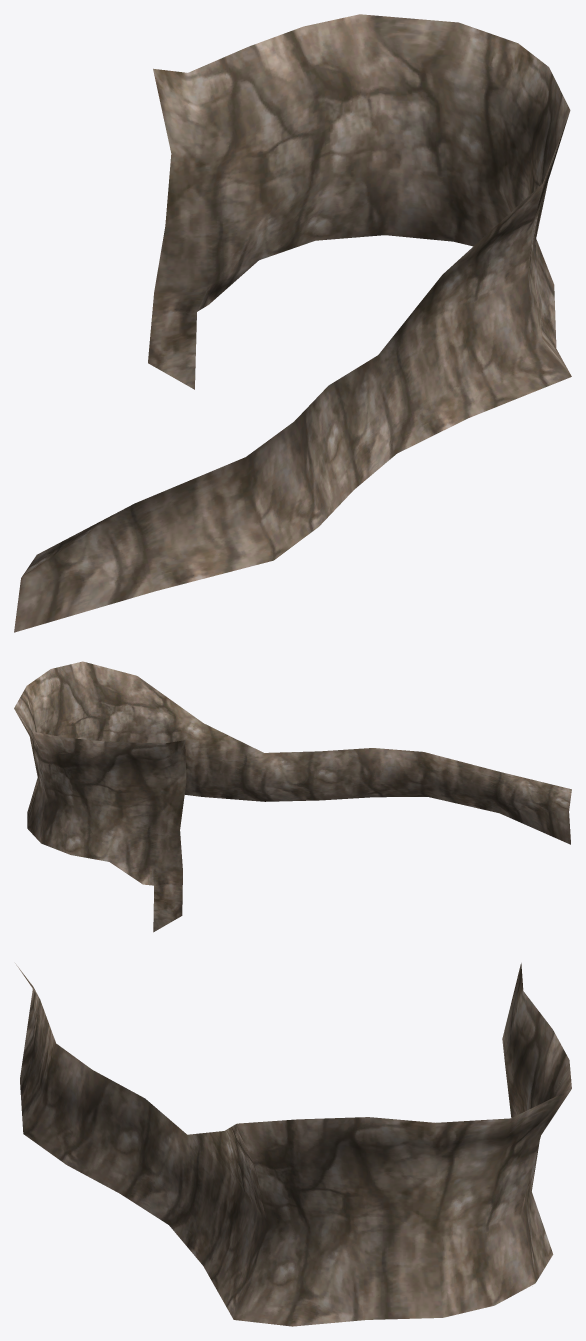
The model's file is EKH_THRONE_PS_TH_OBJECT25.fbx.
3 views of the same model, one above another, from view 1: azimuth 30°, elevation 25°; view 2: azimuth 150°, elevation 25°; view 3: azimuth 270°, elevation 25° (orthographic). The views are drawn at different scales.
Parts seen in each view (by area): view 1: EKH_THRONE_PS_TH_OBJECT25; view 2: EKH_THRONE_PS_TH_OBJECT25; view 3: EKH_THRONE_PS_TH_OBJECT25.
Boxes of the visible parts, left/top/right/bottom form: EKH_THRONE_PS_TH_OBJECT25: left=14, top=14, right=571, bottom=632; EKH_THRONE_PS_TH_OBJECT25: left=14, top=661, right=571, bottom=932; EKH_THRONE_PS_TH_OBJECT25: left=15, top=963, right=571, bottom=1326.
Bounding box in the file's own units: 122217 × 54763 × 88702.
Materials: 1 (1 with a texture image).
